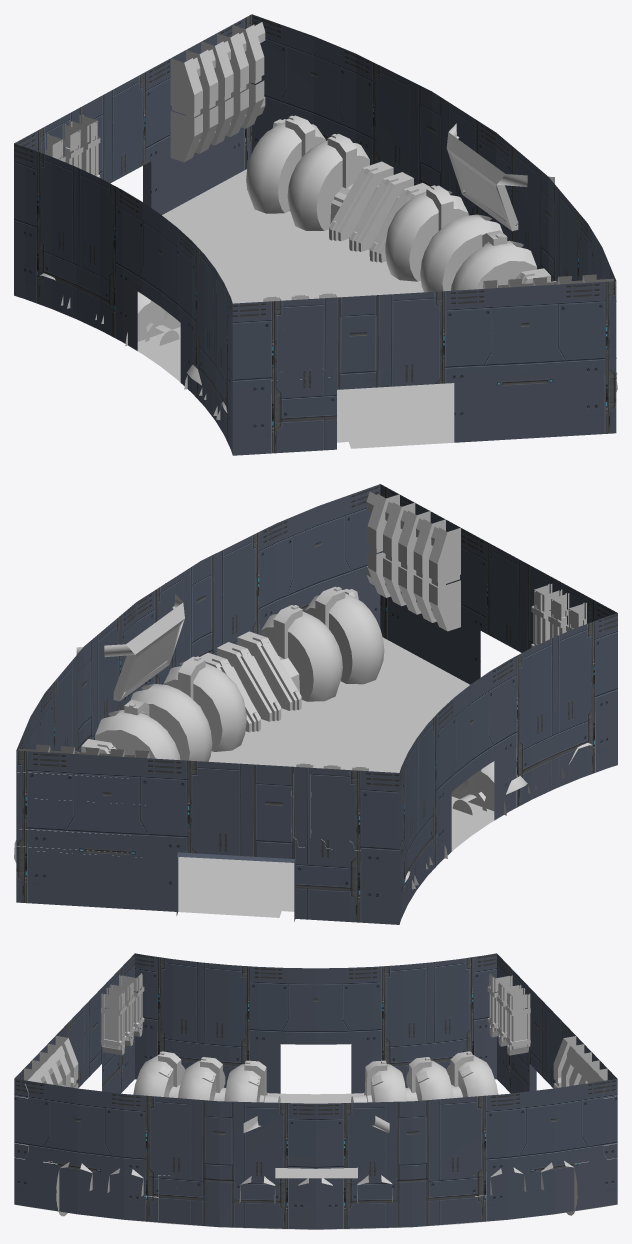
Rendered from pve_research_p6.FBX.
3 views of the same model, one above another, from view 1: azimuth 30°, elevation 25°; view 2: azimuth 150°, elevation 25°; view 3: azimuth 270°, elevation 25° (orthographic). The views are drawn at different scales.
Parts seen in each view (by area): view 1: pve_research_wall, pve_research_ground_01, pve_research_machines_03 (×3), pve_research_machines_01, pve_research_machines_02, pve_research_door; view 2: pve_research_wall, pve_research_ground_01, pve_research_machines_03 (×3), pve_research_machines_01, pve_research_machines_02, pve_research_door; view 3: pve_research_wall, pve_research_machines_03 (×3), pve_research_door, pve_research_machines_01, pve_research_machines_02, pve_research_ground_01.
Part boxes in pixels (<box>): pve_research_wall: <box>14,14,616,455</box>; pve_research_ground_01: <box>137,169,454,448</box>; pve_research_machines_03 (×3): <box>40,115,617,419</box>; pve_research_machines_01: <box>170,22,616,376</box>; pve_research_machines_02: <box>446,113,554,231</box>; pve_research_door: <box>45,114,337,380</box>; pve_research_wall: <box>16,484,617,924</box>; pve_research_ground_01: <box>178,637,494,917</box>; pve_research_machines_03 (×3): <box>14,586,592,889</box>; pve_research_machines_01: <box>16,491,460,857</box>; pve_research_machines_02: <box>76,583,184,701</box>; pve_research_door: <box>291,583,586,850</box>; pve_research_wall: <box>14,953,617,1229</box>; pve_research_machines_03 (×3): <box>56,1051,577,1216</box>; pve_research_door: <box>101,973,530,1055</box>; pve_research_machines_01: <box>14,1035,617,1220</box>; pve_research_machines_02: <box>243,1116,389,1178</box>; pve_research_ground_01: <box>19,1093,614,1229</box>.
Bounding box in the file's own units: 29445 × 11899 × 47034.
